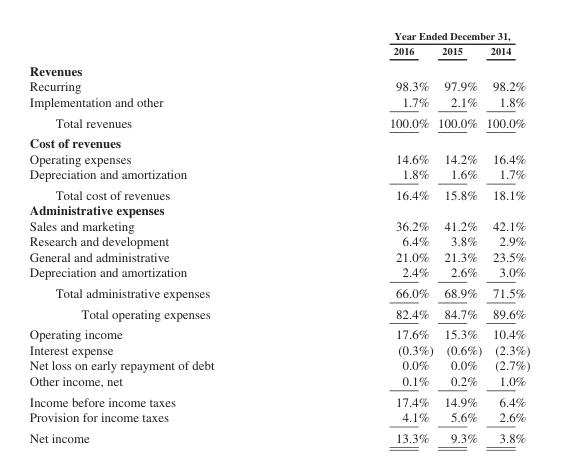table: (28, 29, 529, 444)
table column: (28, 29, 301, 444), (301, 29, 434, 444), (434, 29, 483, 444), (483, 29, 529, 444)
table column header: (28, 29, 529, 59)
table projected row header: (28, 59, 529, 78), (28, 132, 529, 150), (28, 202, 529, 217)
table row: (28, 111, 529, 132), (28, 282, 529, 303), (28, 303, 529, 323), (28, 59, 529, 78), (28, 390, 529, 409), (28, 93, 529, 111), (28, 132, 529, 150), (28, 166, 529, 184), (28, 184, 529, 202), (28, 264, 529, 282), (28, 323, 529, 341), (28, 372, 529, 390), (28, 409, 529, 427), (28, 42, 529, 59), (28, 427, 529, 444), (28, 150, 529, 166), (28, 217, 529, 233), (28, 248, 529, 264), (28, 341, 529, 357), (28, 78, 529, 93), (28, 202, 529, 217), (28, 233, 529, 248), (28, 357, 529, 372), (28, 29, 529, 42)
table spanning cell: (301, 29, 529, 42)
